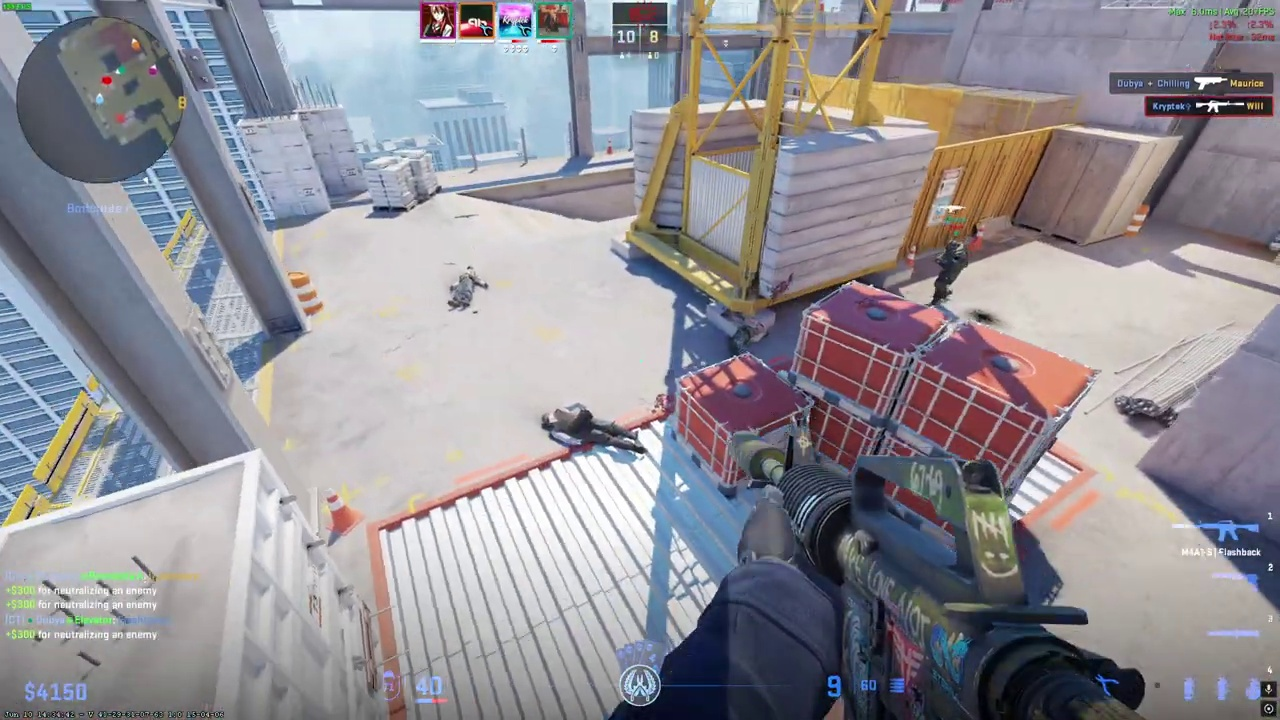CT: (931, 240, 966, 305)
